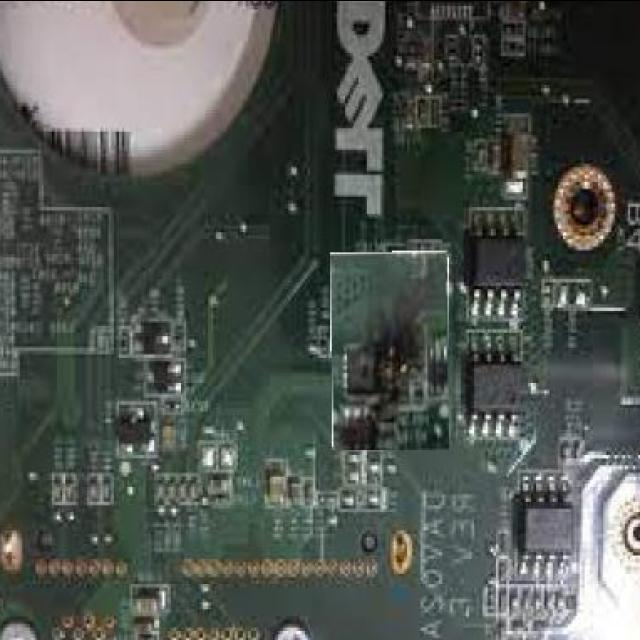Burn: (331, 250, 450, 452)
